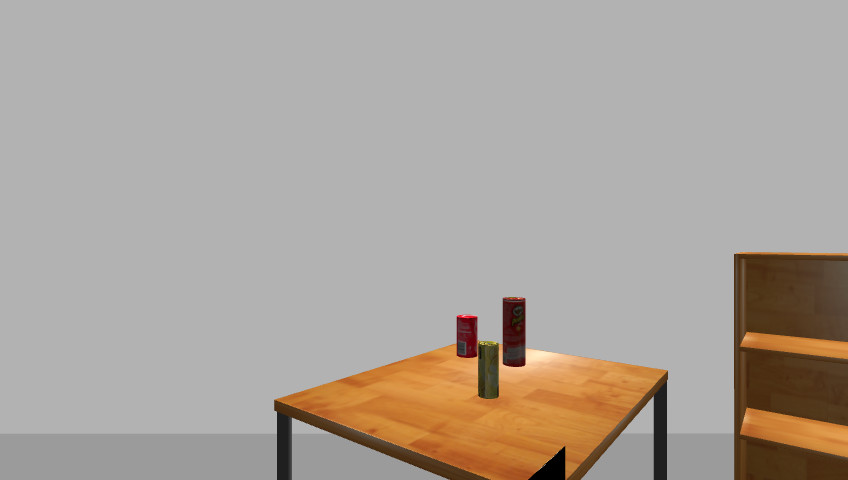aruco marker: (521, 447, 569, 480)
biscuits pack: (478, 341, 501, 400)
bookshelf: (728, 250, 848, 479)
coke can: (454, 314, 479, 359)
dinner table: (266, 343, 678, 480)
pringles can: (501, 296, 528, 369)
